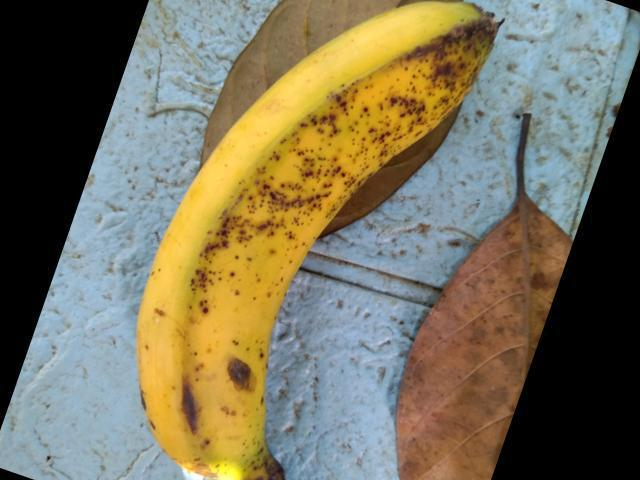ripe: (115, 3, 493, 466)
